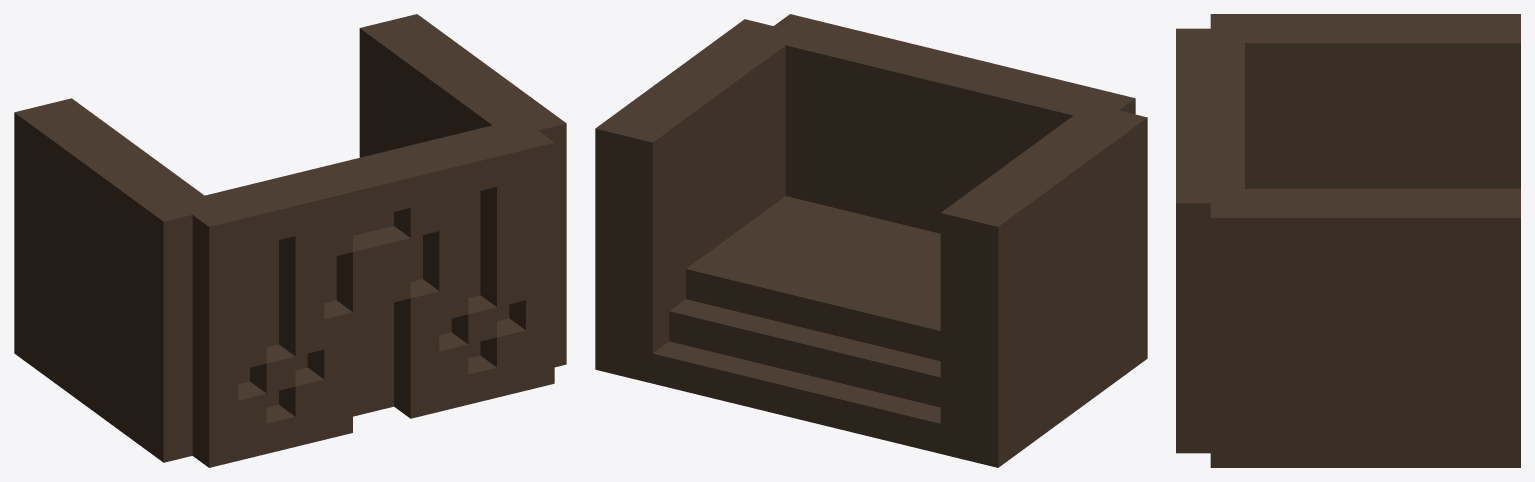
File: church-29-ch_pulpit2.glb
3 renders of one model, left to right at view 1: azimuth 30°, elevation 25°; view 2: azimuth 150°, elevation 25°; view 3: azimuth 270°, elevation 25°, orthographic. The views are drawn at different scales.
Visible parts, largest first — view 1: ch_pulpit2; view 2: ch_pulpit2; view 3: ch_pulpit2.
Part boxes in pixels (<box>): ch_pulpit2: <box>14,14,566,467</box>; ch_pulpit2: <box>595,14,1147,467</box>; ch_pulpit2: <box>1176,14,1520,467</box>.
Bounding box in the file's own units: 1.4 × 0.8 × 1.
1 material, 1 textured.
